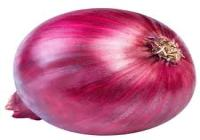onion: (4, 6, 198, 136)
